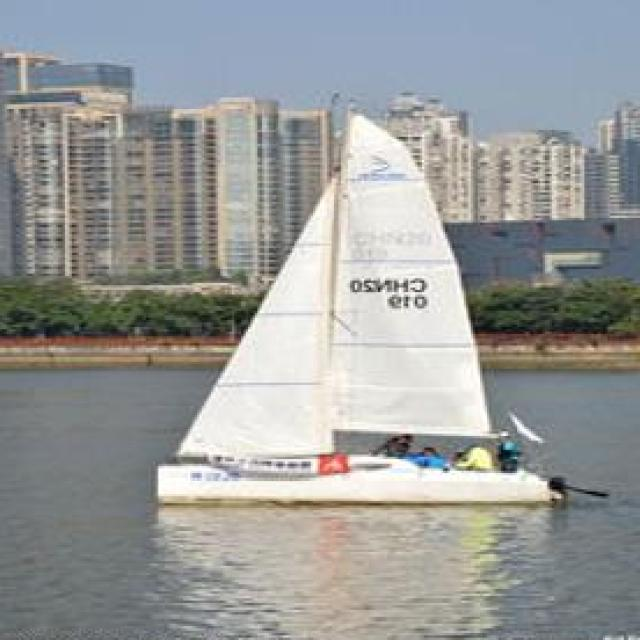sailboat: (149, 98, 564, 514)
